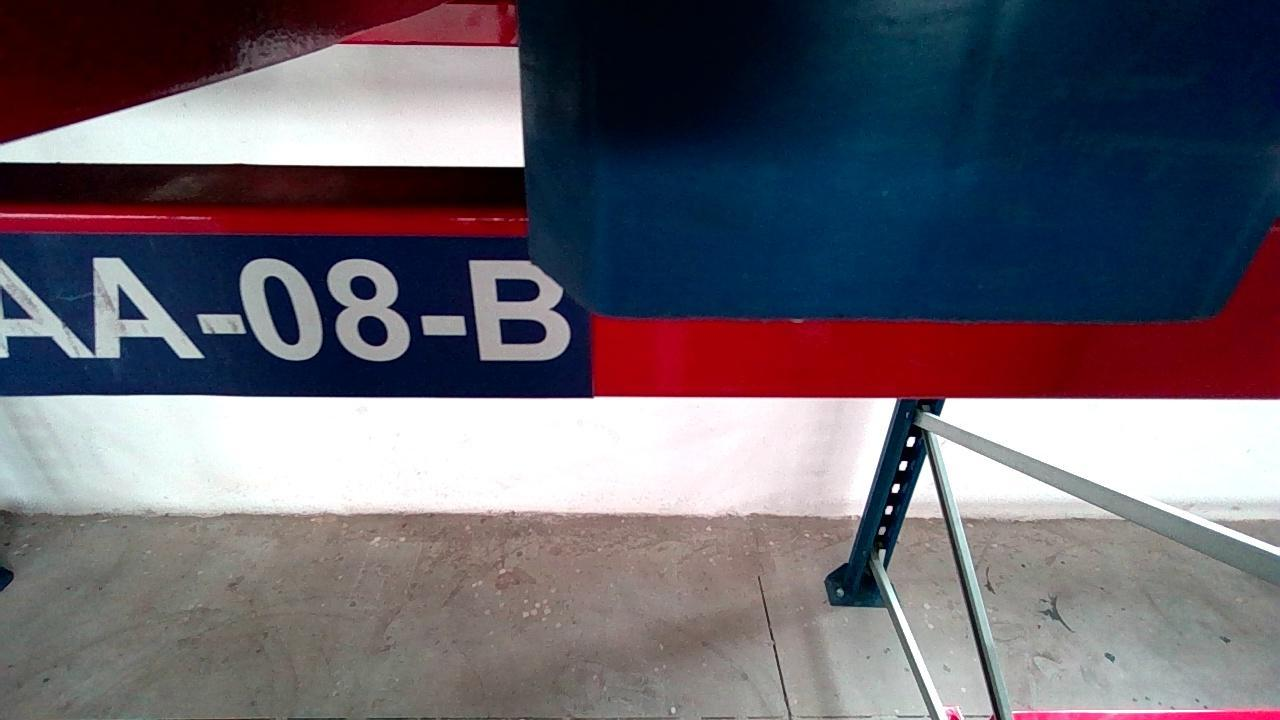h_rack: (1, 219, 1277, 394)
